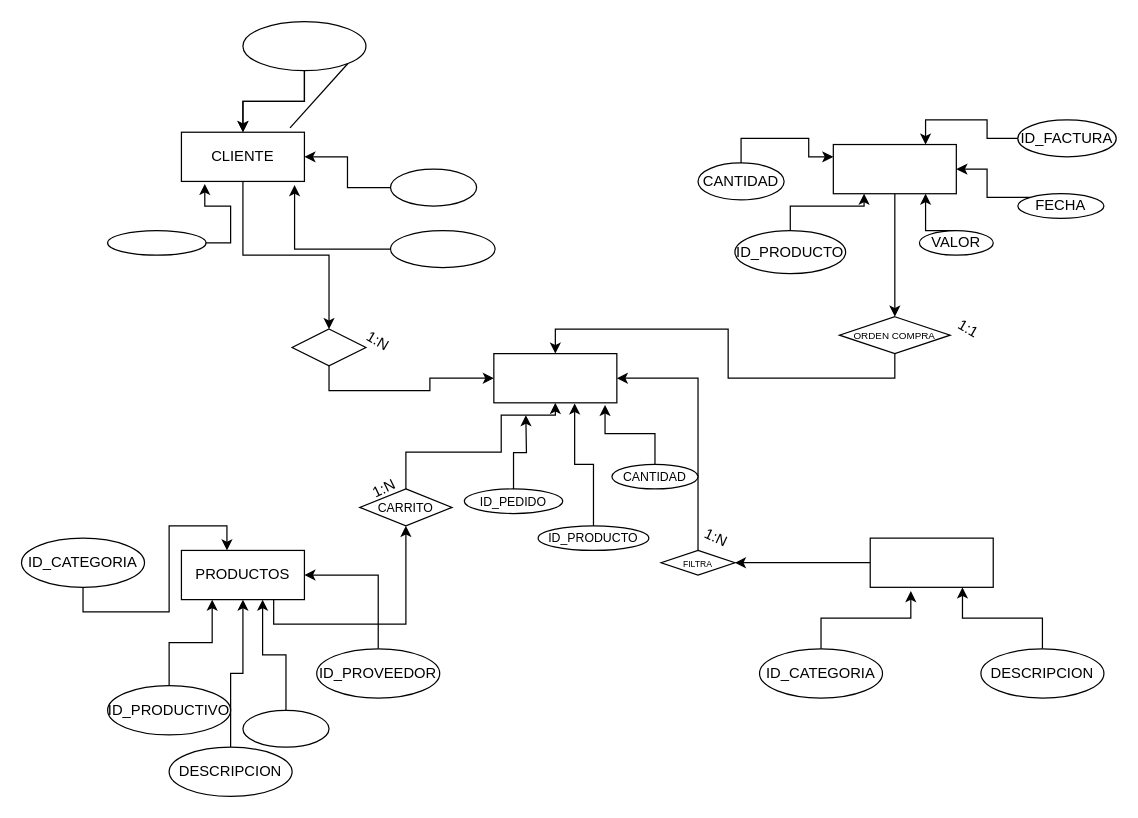
Image size: 1138x818. Some labels were removed from this diagram. The centre of each missing label's shape, as x and y in pixels:
CATEGORIAS: (931,562)
DIRECCION: (442,248)
FACTURA: (894,168)
ID_CLIENTE: (433,187)
Nombre: (304,45)
PEDIDO: (555,377)
PRECIO: (285,728)
REALIZA: (328,347)
TELEFONO: (156,242)
